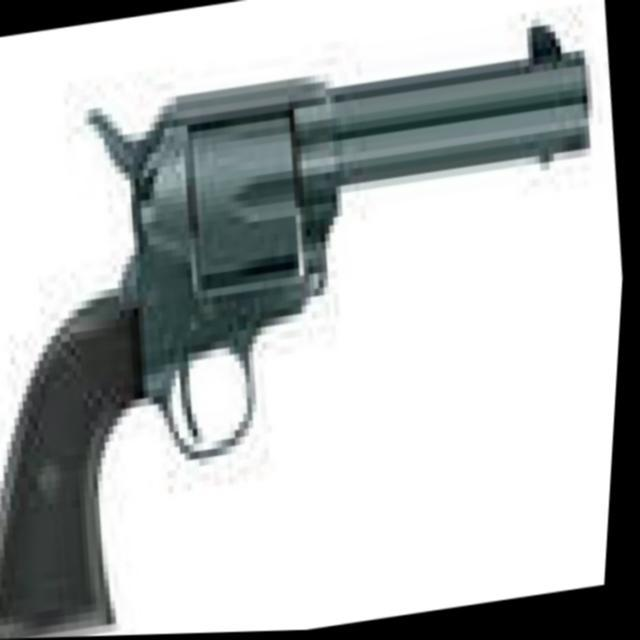weapon: (0, 13, 639, 640)
